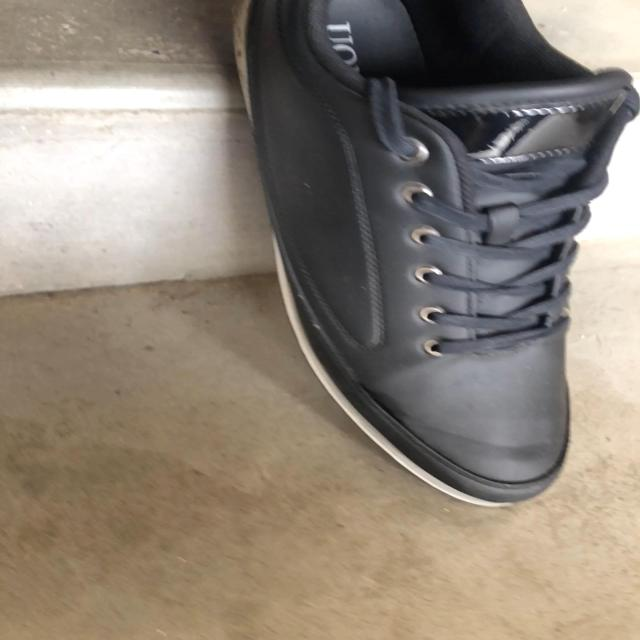shoe: (233, 0, 640, 509)
